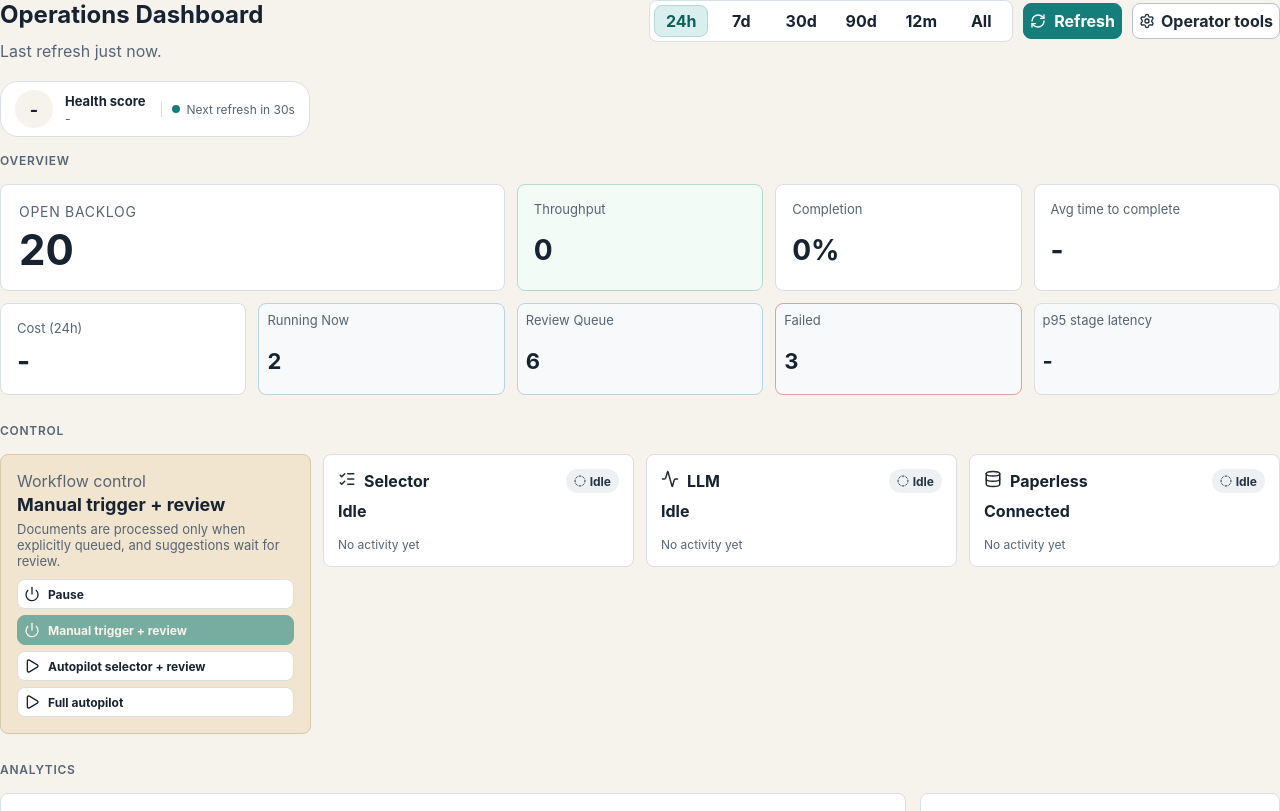
Test: <Dashboard> polling indicator and confirmations › asks before handing control to the autopilot (#417)
Click the button "Full autopilot": (86, 702) [17,687,294,717]
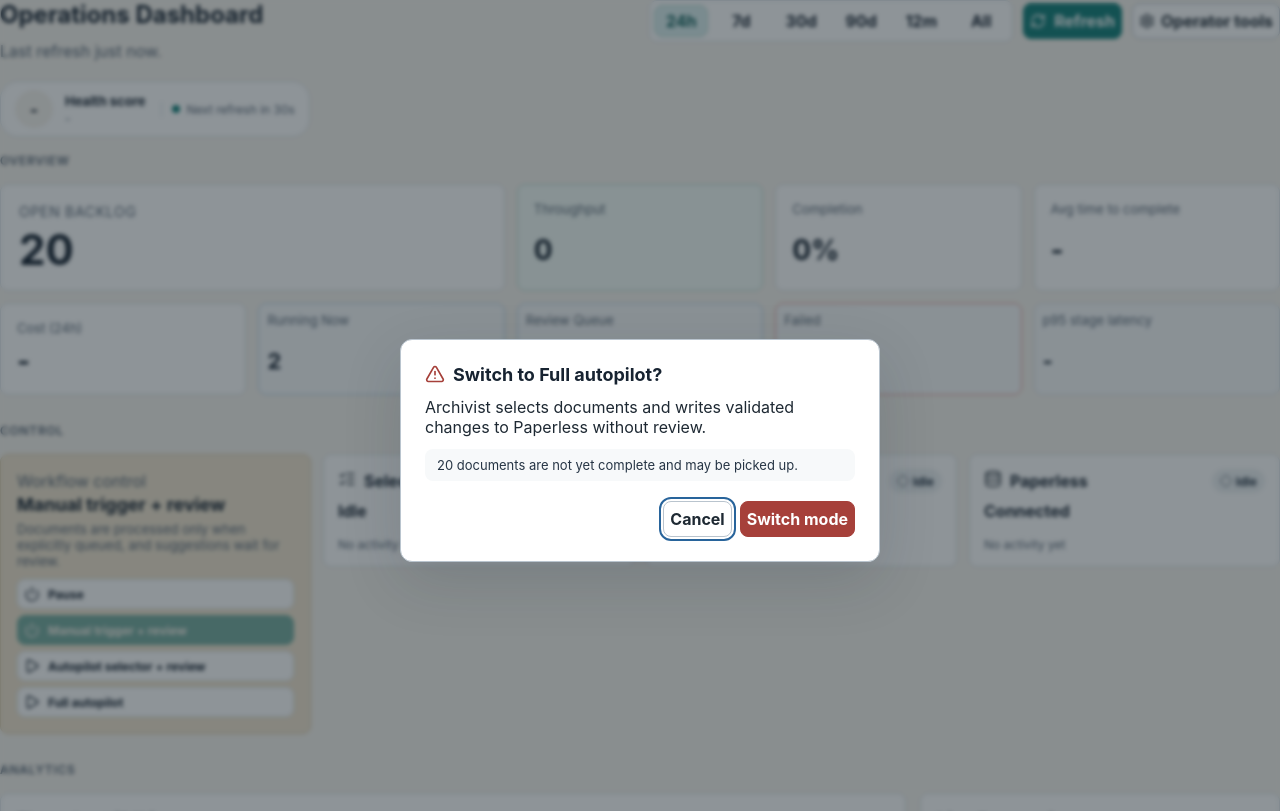
Click the button "Cancel": (698, 518) [663,500,732,536]
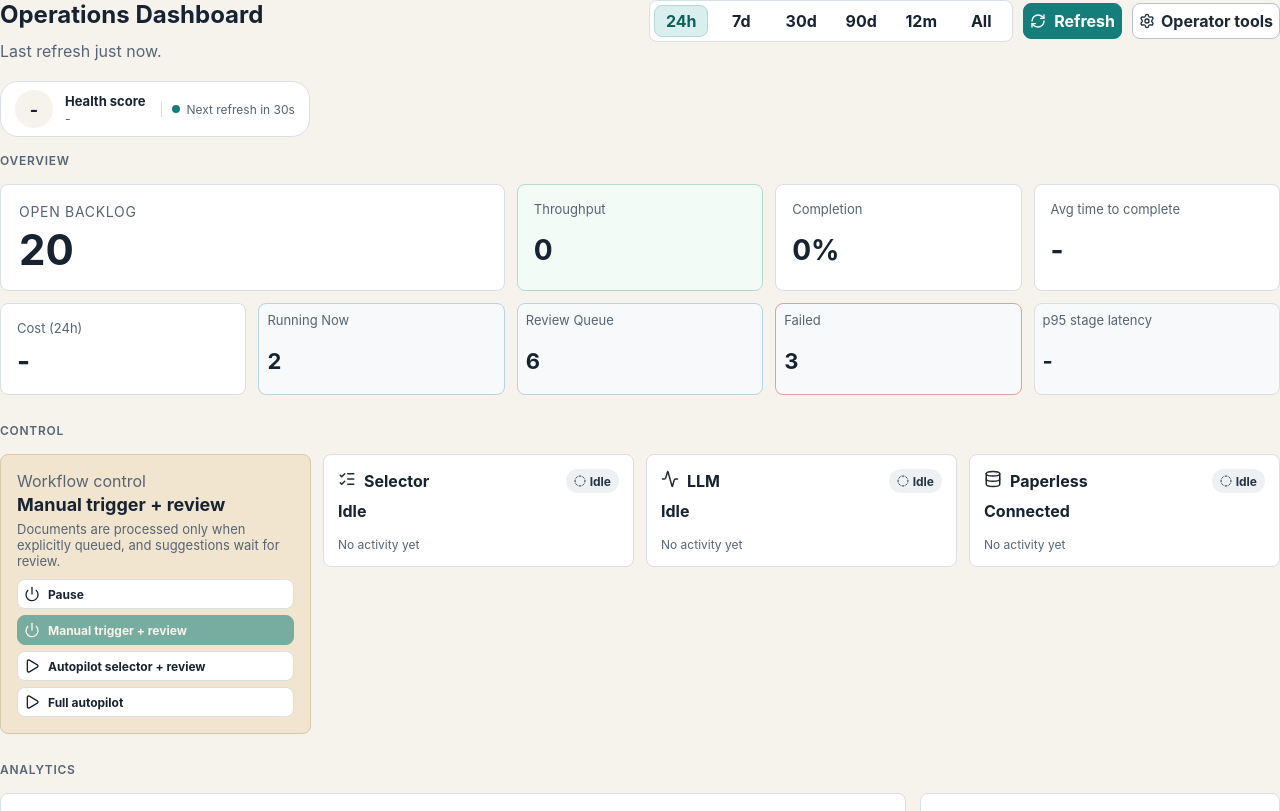
expect the dialog is gone: met
